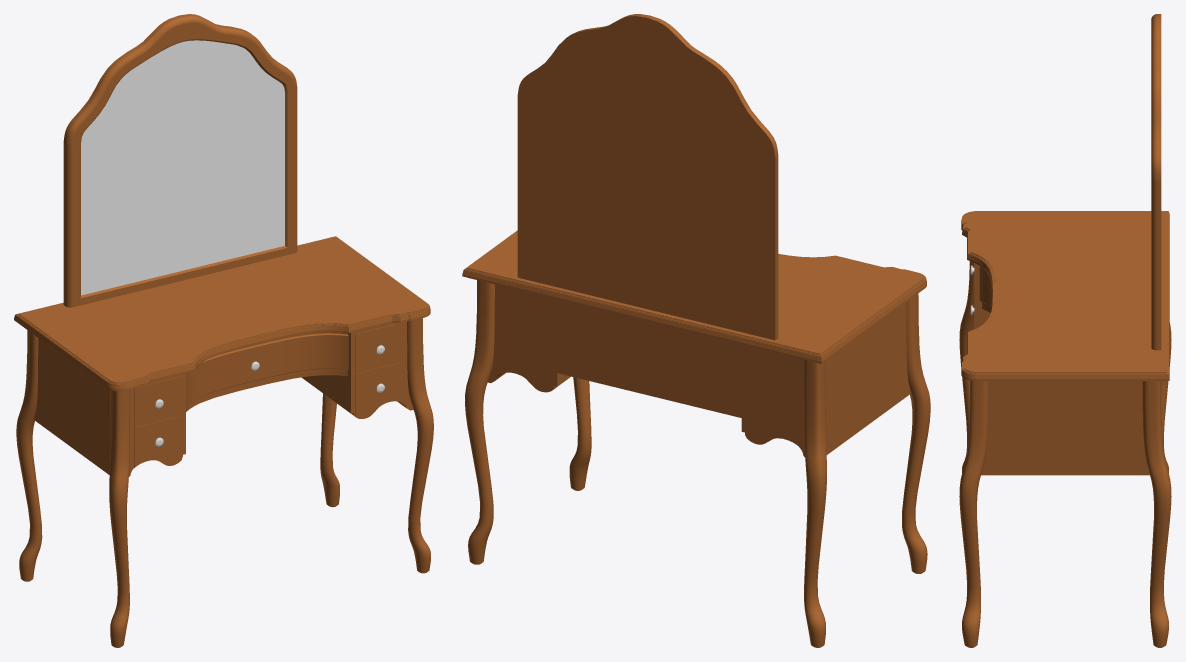
Rendered from 947_dressing_table.glb.
The picture shows the model from 3 angles, left to right: view 1: azimuth 30°, elevation 25°; view 2: azimuth 150°, elevation 25°; view 3: azimuth 270°, elevation 25°; orthographic projection. The views are drawn at different scales.
Visible parts, largest first — view 1: Body, hikidashi1, hikidashi5, hikidashi3, hikidashi4, hikidashi2; view 2: Body; view 3: Body, hikidashi1.
Boxes of the visible parts, bbox=[...] form: Body: bbox=[14, 14, 433, 647]; hikidashi1: bbox=[186, 333, 348, 406]; hikidashi5: bbox=[355, 362, 403, 418]; hikidashi3: bbox=[134, 416, 181, 467]; hikidashi4: bbox=[355, 322, 403, 373]; hikidashi2: bbox=[134, 376, 181, 427]; Body: bbox=[462, 14, 930, 647]; Body: bbox=[959, 14, 1171, 647]; hikidashi1: bbox=[979, 266, 991, 306].
Bounding box in the file's own units: 0.9528 × 1.49 × 0.5206.
